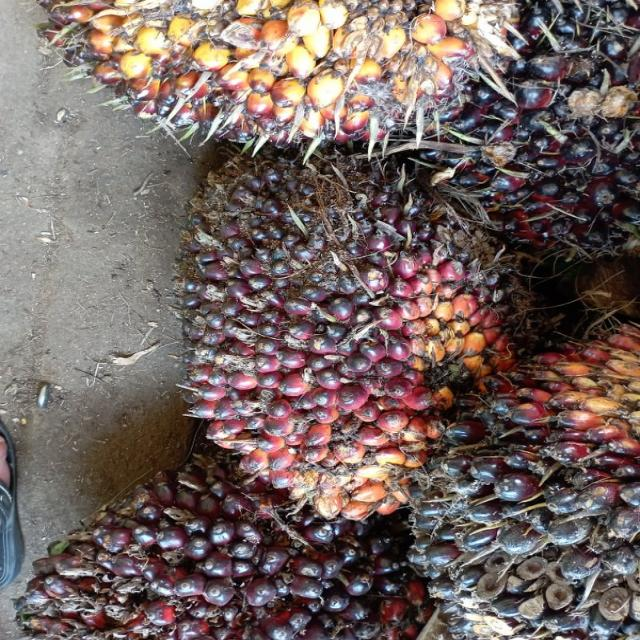fraksi 00: (409, 335, 639, 640)
fraksi 1: (158, 145, 544, 518), (17, 474, 436, 640)
